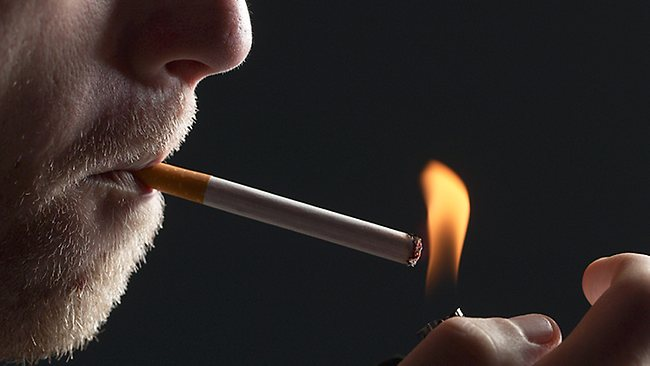cigarette: (110, 144, 430, 278)
